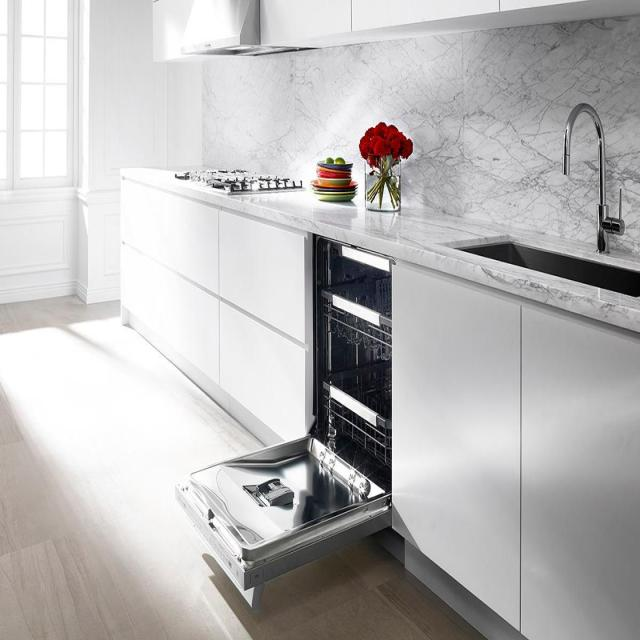dishwasher: (182, 228, 400, 598)
